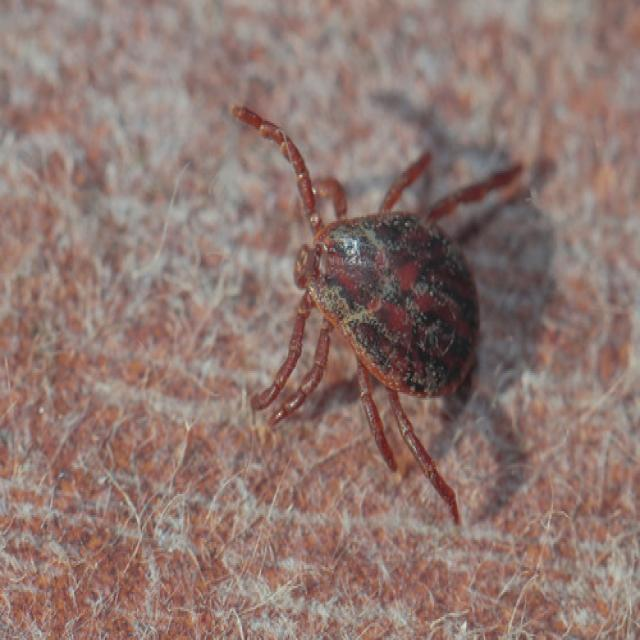Dermacentor Reticulatus-M: (230, 106, 525, 527)
